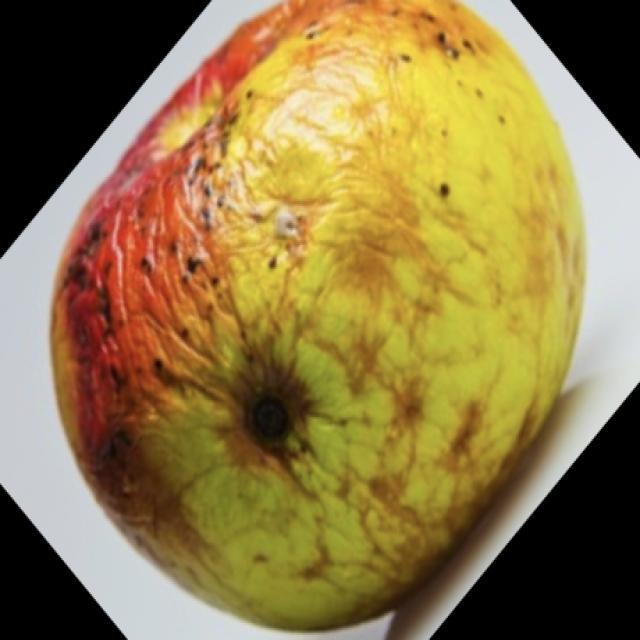Rotten: (81, 0, 583, 603)
